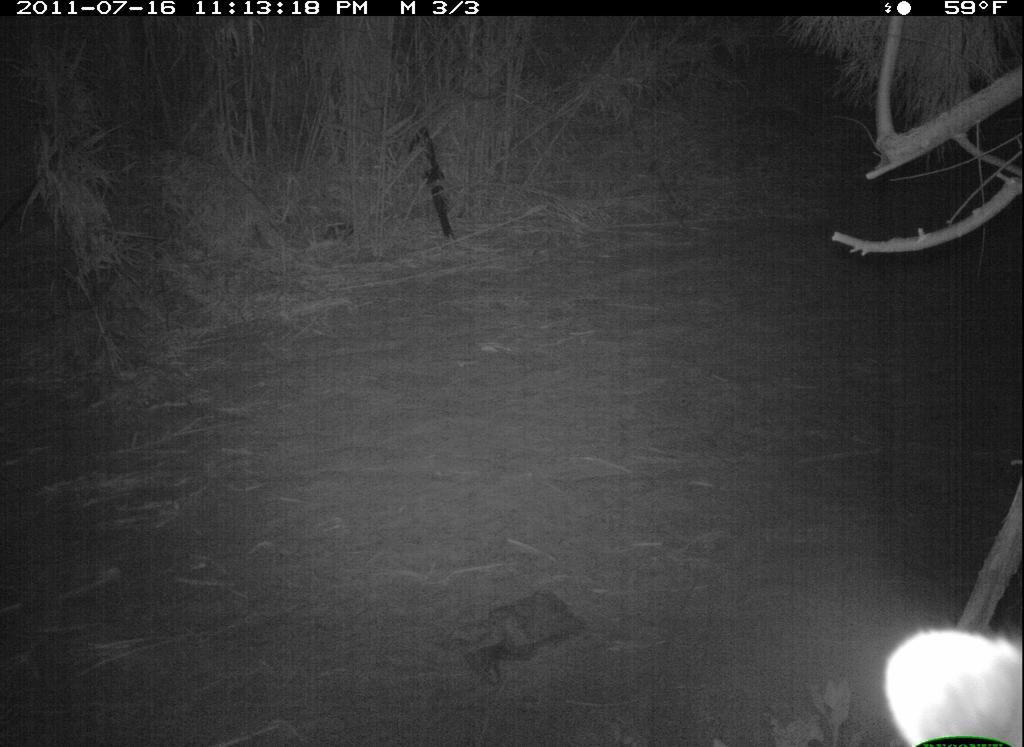raccoon: (872, 614, 1021, 747)
